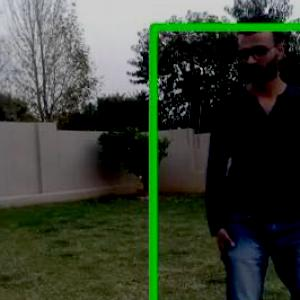follow: (206, 16, 300, 299)
